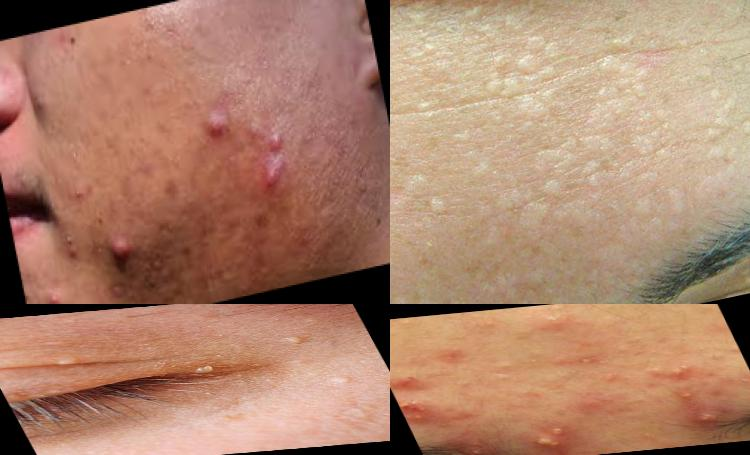cystic: (246, 149, 311, 206), (196, 100, 239, 146), (101, 231, 137, 269)
flat_wart: (474, 152, 620, 255), (569, 23, 666, 126), (525, 117, 629, 204), (473, 26, 575, 109), (683, 68, 750, 151), (391, 154, 457, 229), (623, 103, 698, 168), (439, 113, 503, 189), (24, 345, 129, 378), (248, 324, 338, 359), (391, 255, 445, 305), (391, 44, 405, 106)
papular: (255, 117, 308, 160), (543, 315, 580, 333), (391, 369, 426, 388)
purulent: (534, 421, 581, 437), (668, 387, 706, 404), (43, 286, 69, 305), (454, 445, 492, 455)
sebo-crystan-conglo: (396, 394, 441, 427), (519, 434, 581, 455), (681, 405, 728, 427), (573, 352, 607, 369)
whitehead: (481, 357, 535, 389), (641, 361, 704, 382)
